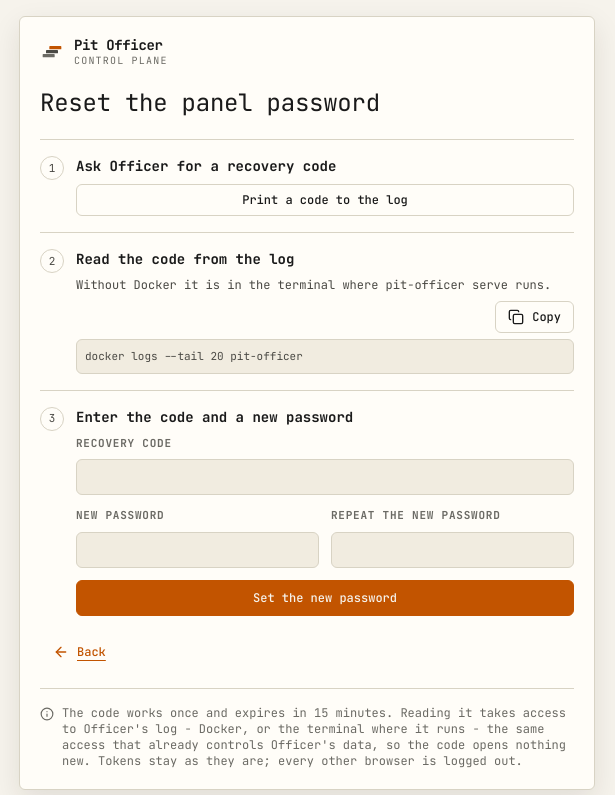
Test: PasswordRecovery › asking for a code › shows any other failure in a banner
Click the button "Print a code to the log" at (325,200), box x1=76 y1=184 x2=574 y2=216
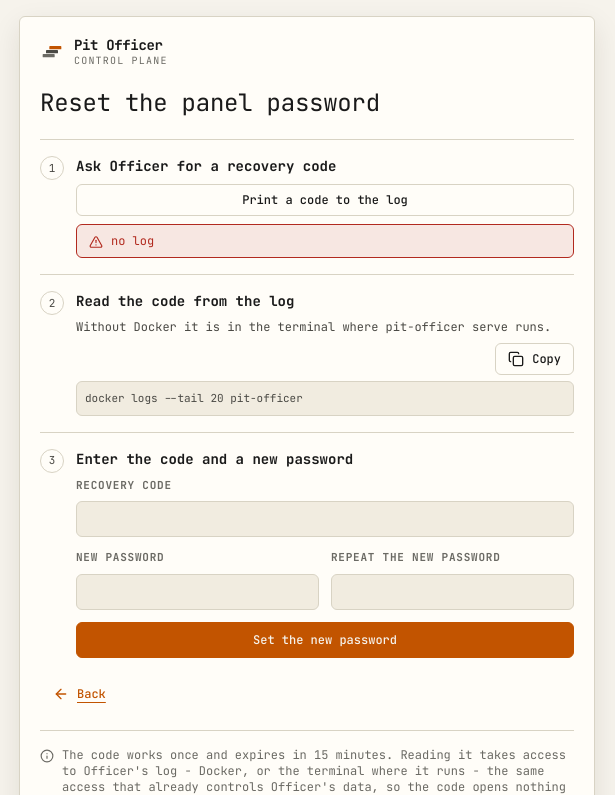
Now the message reads "no log", box x1=111 y1=233 x2=154 y2=249
